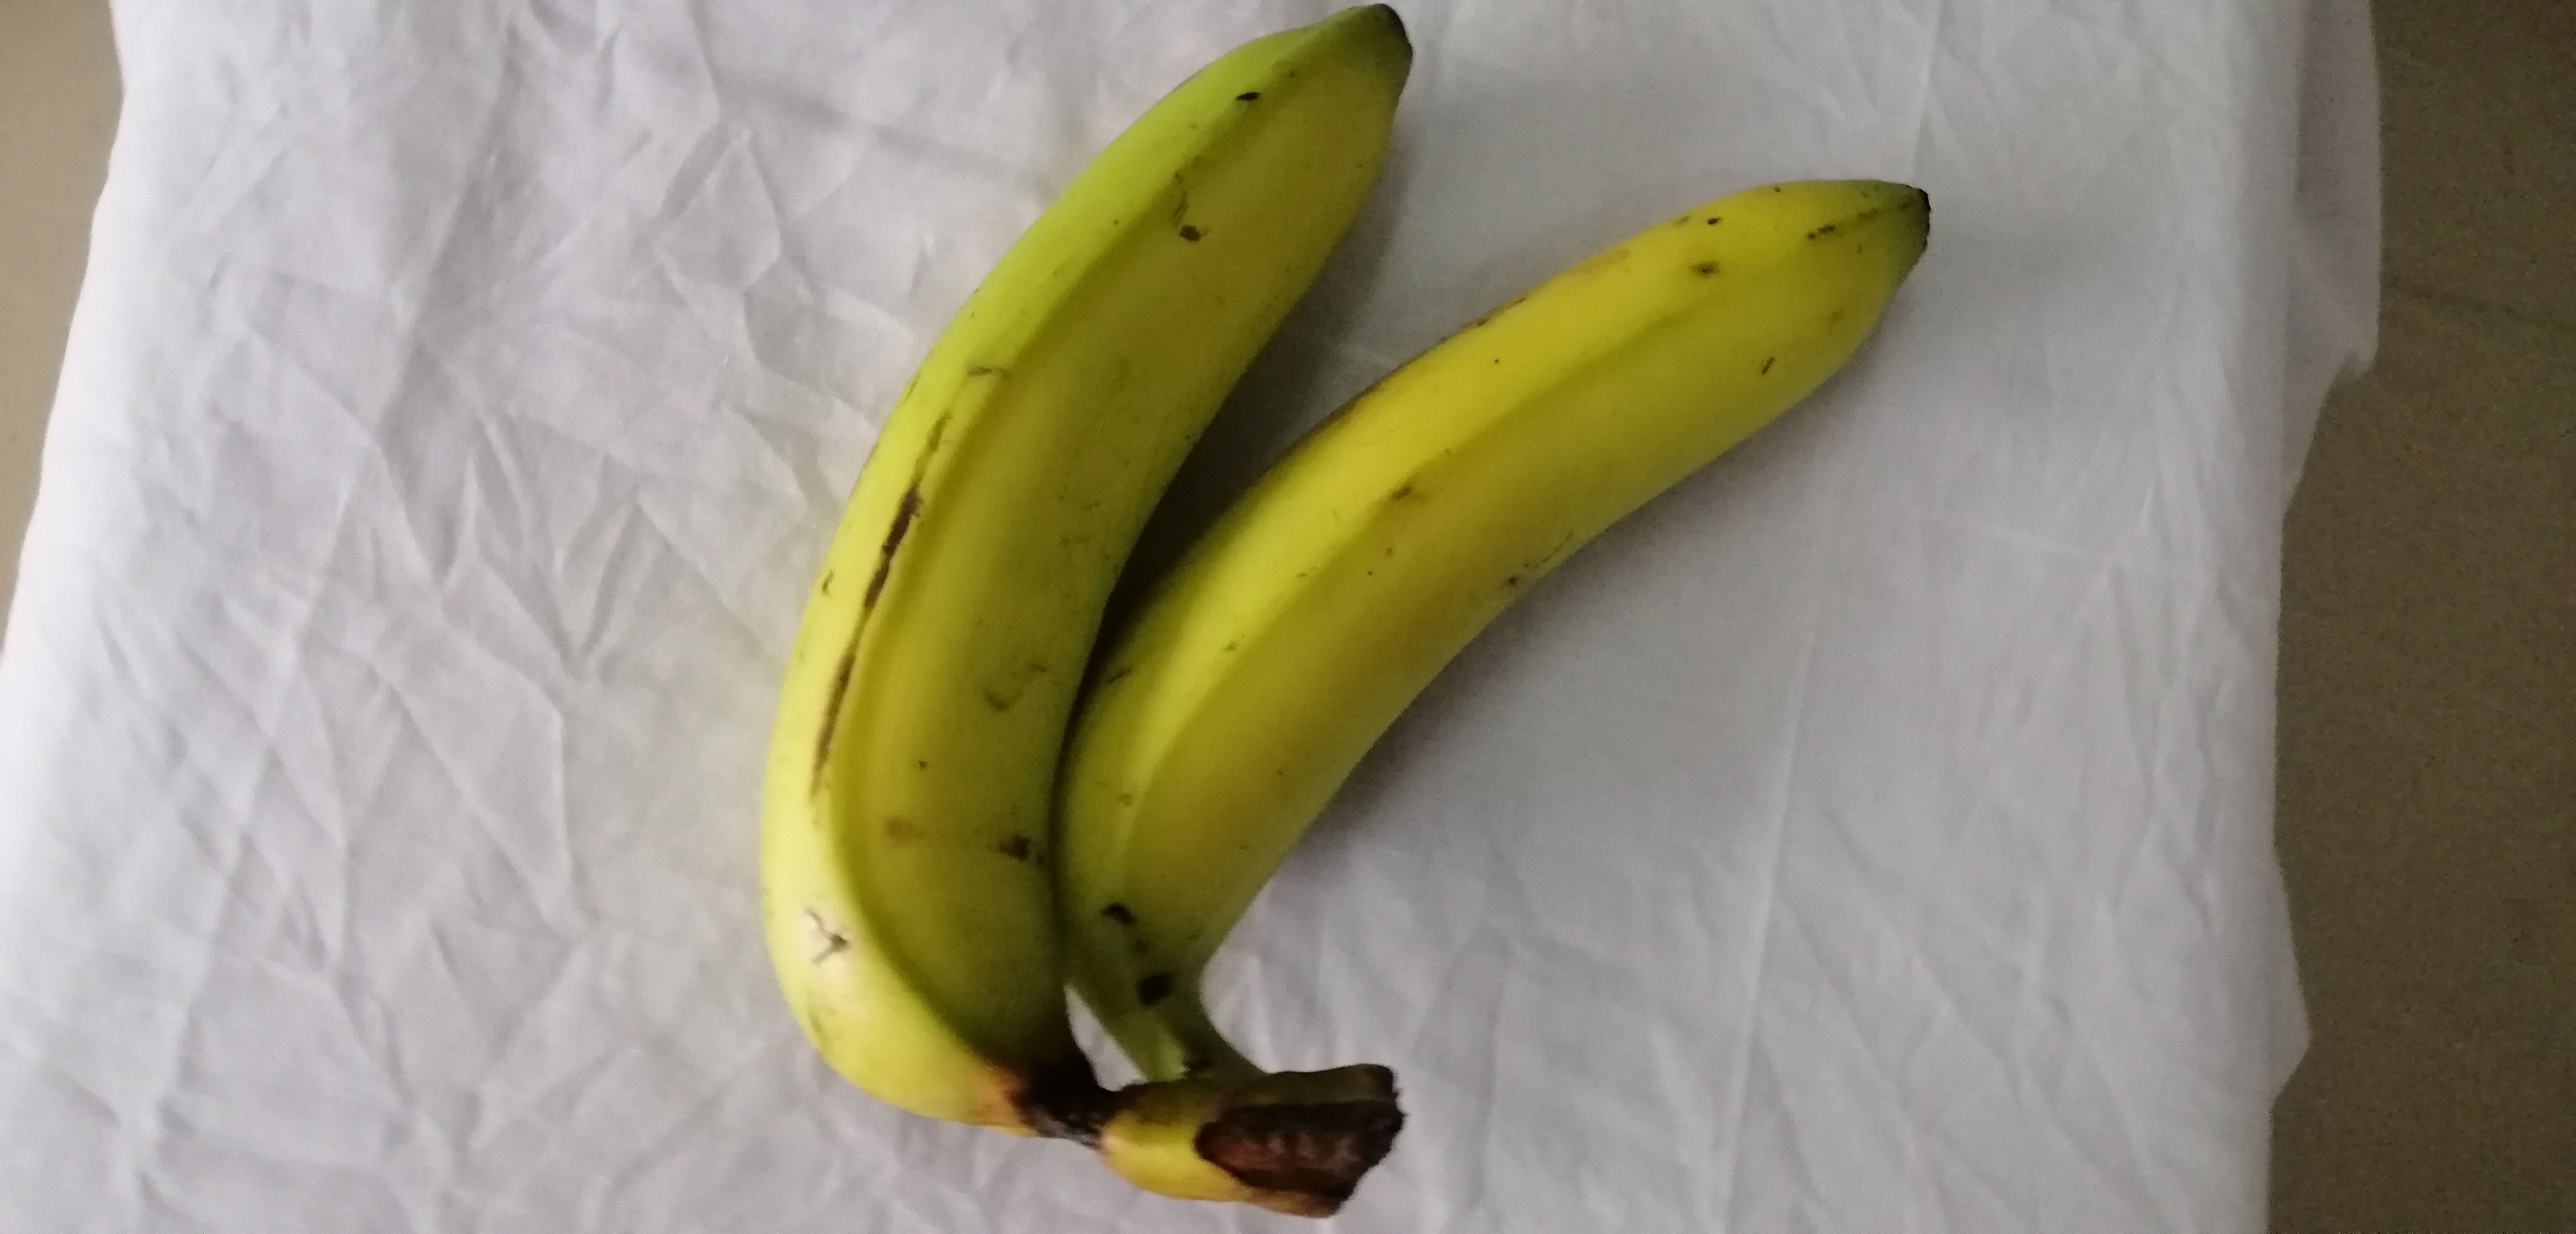banana: (1055, 174, 1935, 1204), (752, 8, 1423, 1196)
